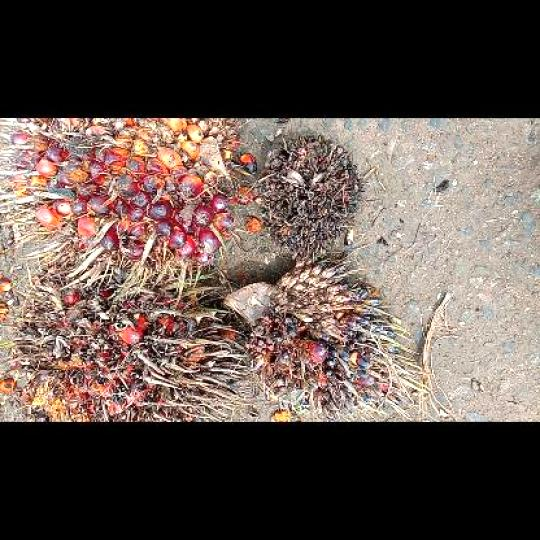masak: (1, 120, 235, 276)
terlalu masak: (0, 262, 249, 421)
